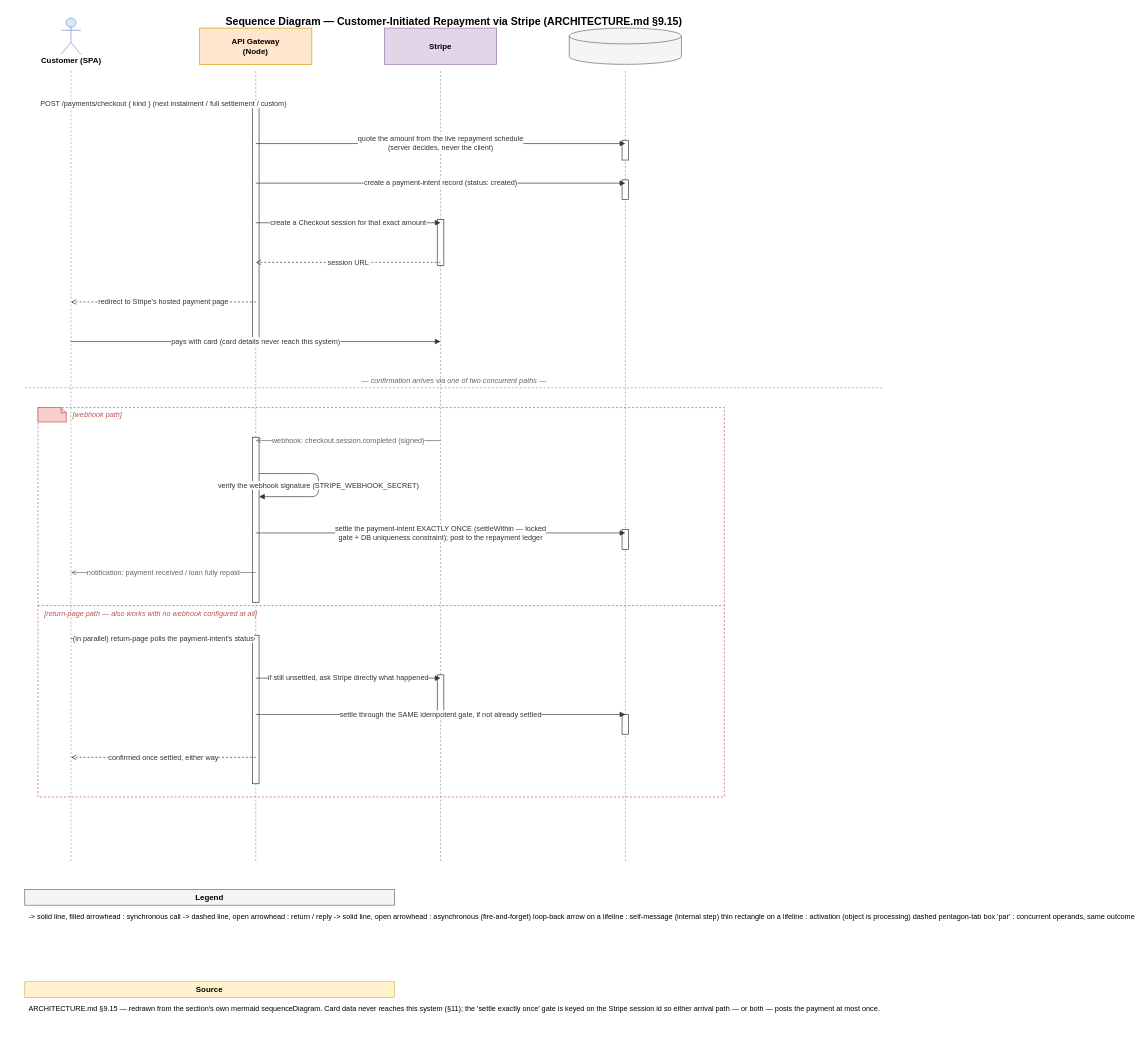
This 1146x1060 diagram has some shape labels left out. The box of each missing label's shape, as (x1, y1, x2, y2) in pixels:
MySQL: (569, 27, 681, 64)
par: (37, 407, 66, 422)
